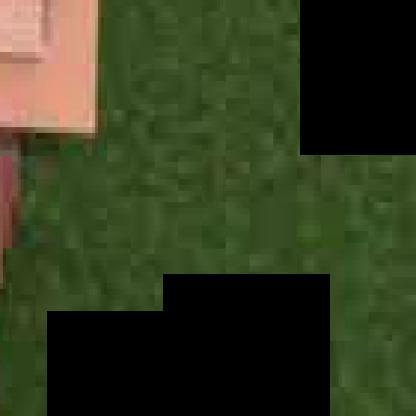minecraft-pigs: (0, 0, 146, 410)
